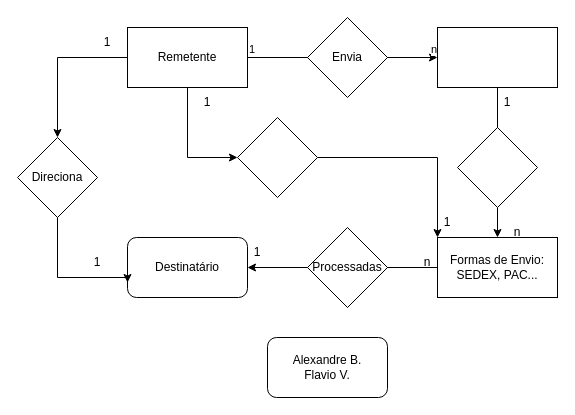
The diagram is 575 pixels wide and 415 high, and some of its shapes have lost their labels. Each missing label, with the centre of its shape:
"Encomendas" goes at [497,57].
"Escolhe" goes at [277,157].
"Possui" goes at [497,167].
